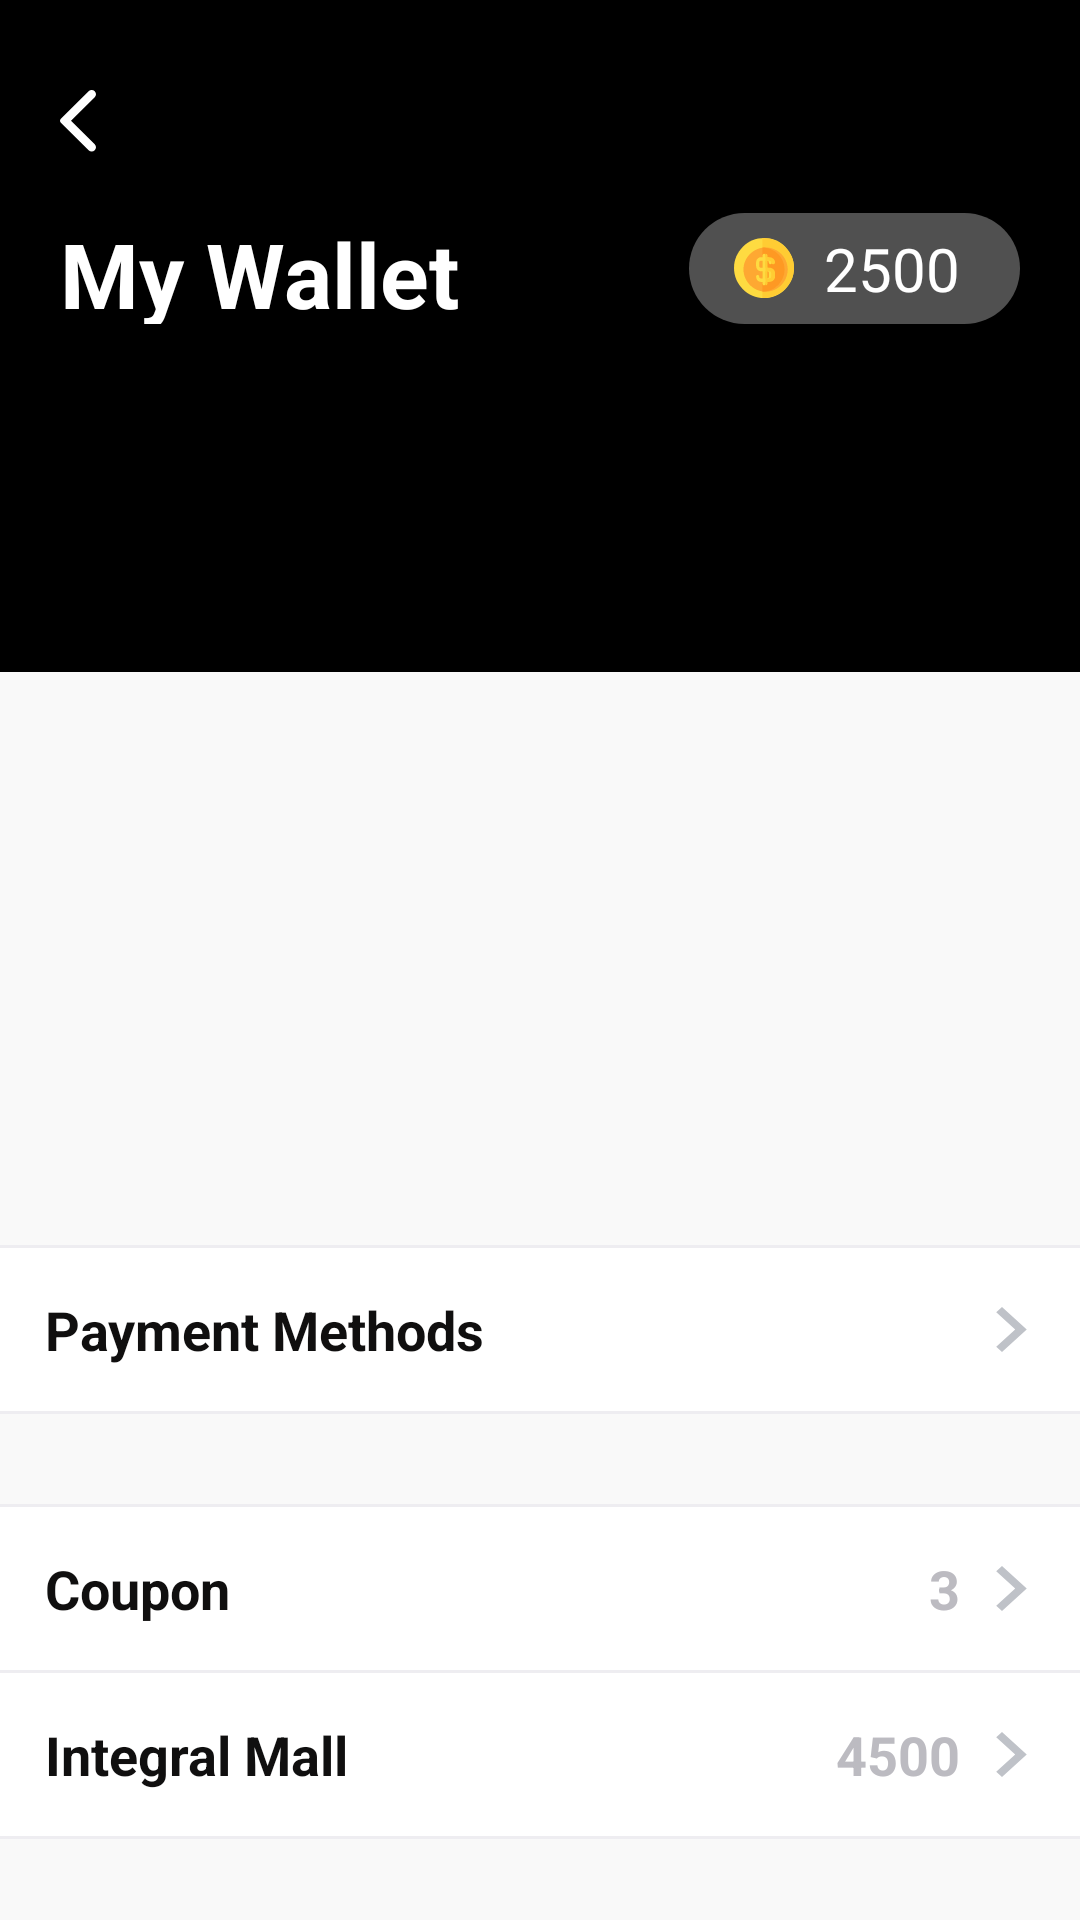

Where icons sit on this 1080 x 1920 app screen, as (x1, y1, x2, y2):
left arrow: (60, 90, 96, 152)
next arrow: (996, 1307, 1027, 1352), (996, 1566, 1027, 1611), (996, 1732, 1027, 1777)
